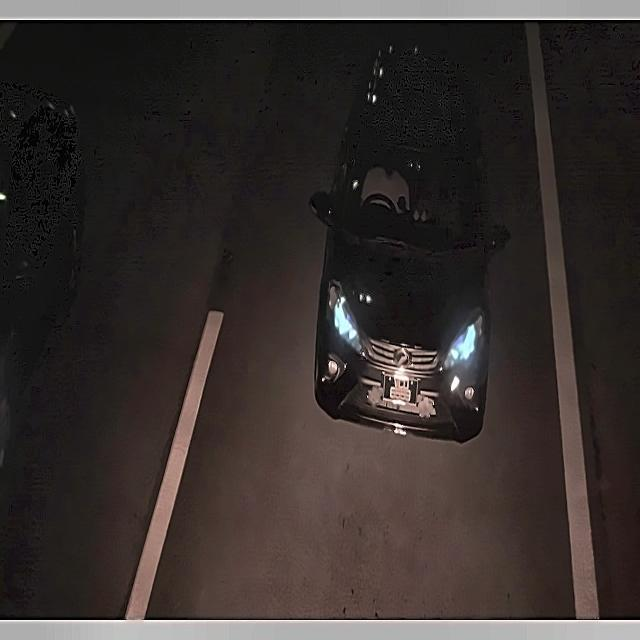car: (375, 357, 421, 411)
